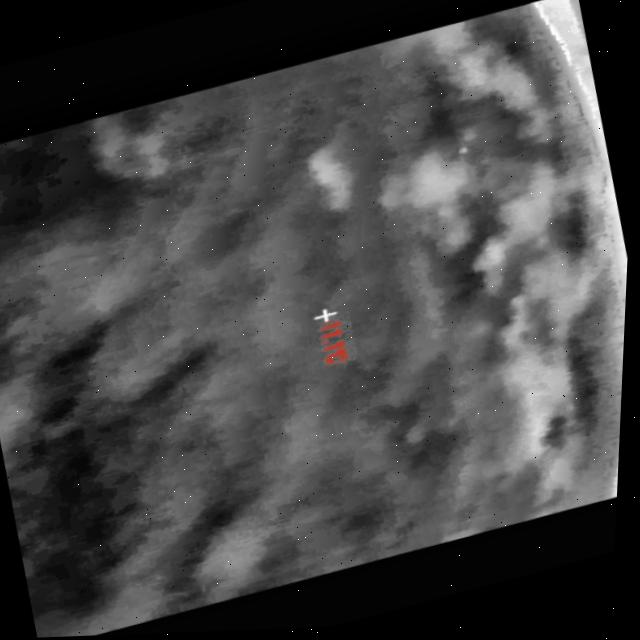drone: (454, 145, 474, 160)
